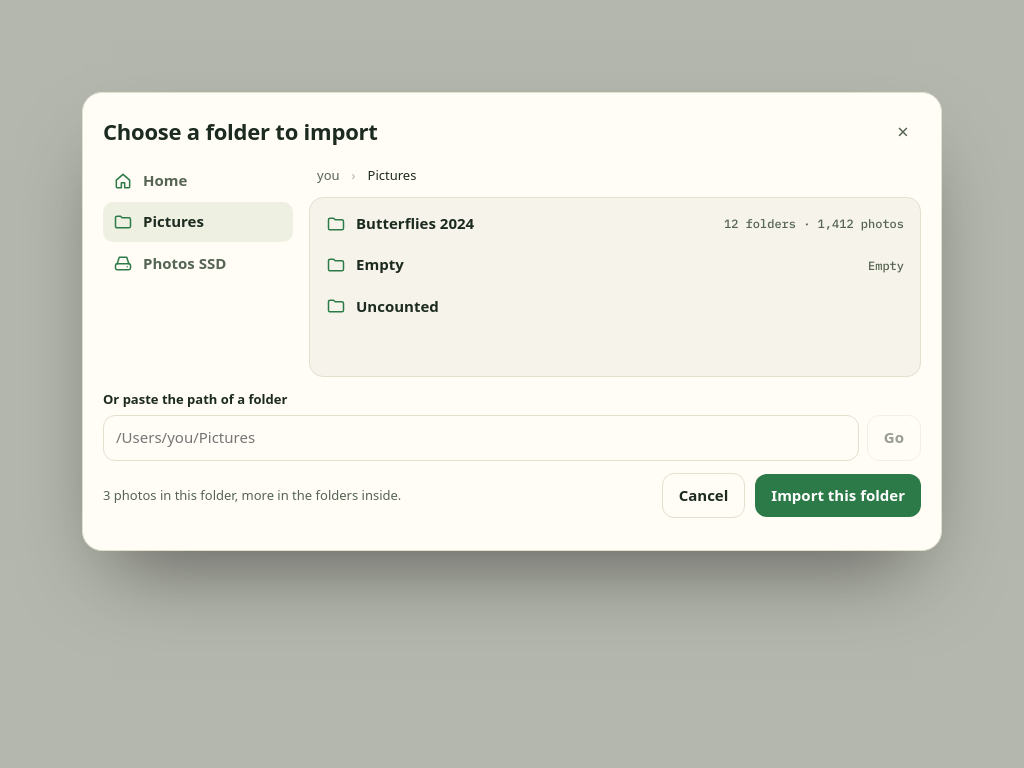
Test: the server's refusal of the library folder shows beside the button
Expected: the list named "Folders in Pictures" is shown, [309, 197, 921, 377]
Step 1. Click the button "Import this folder" → (838, 495), box [755, 474, 921, 517]
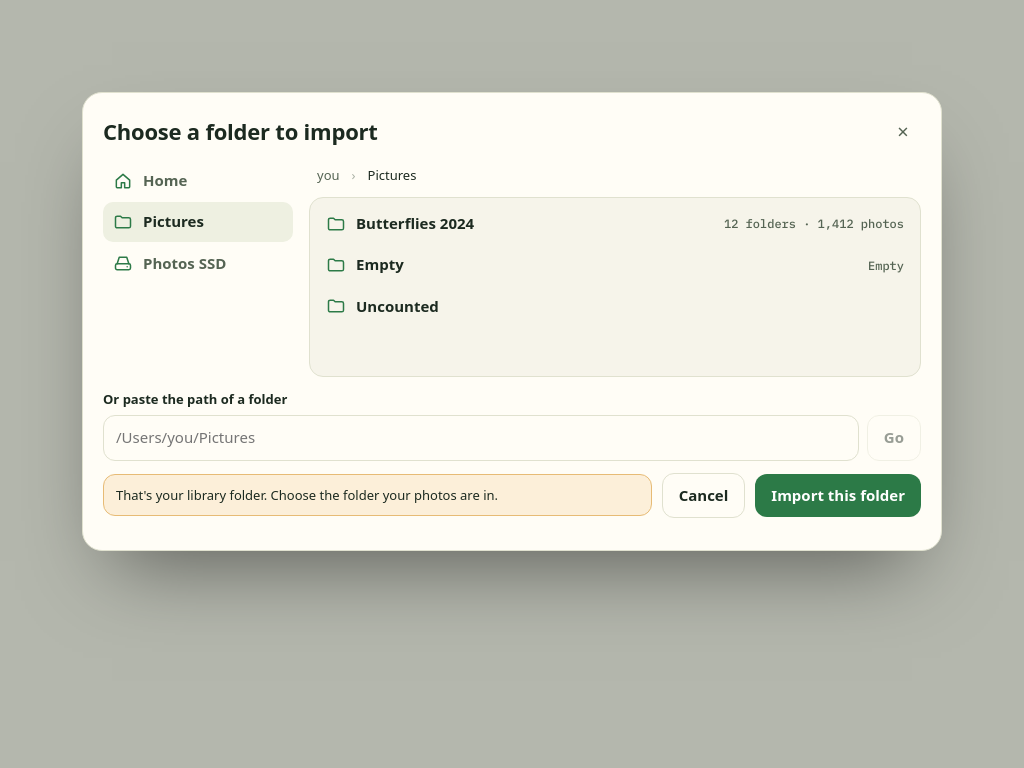
Now the message reads "That's your library folder. Choose the folder your photos are in.", box [116, 486, 498, 504]
